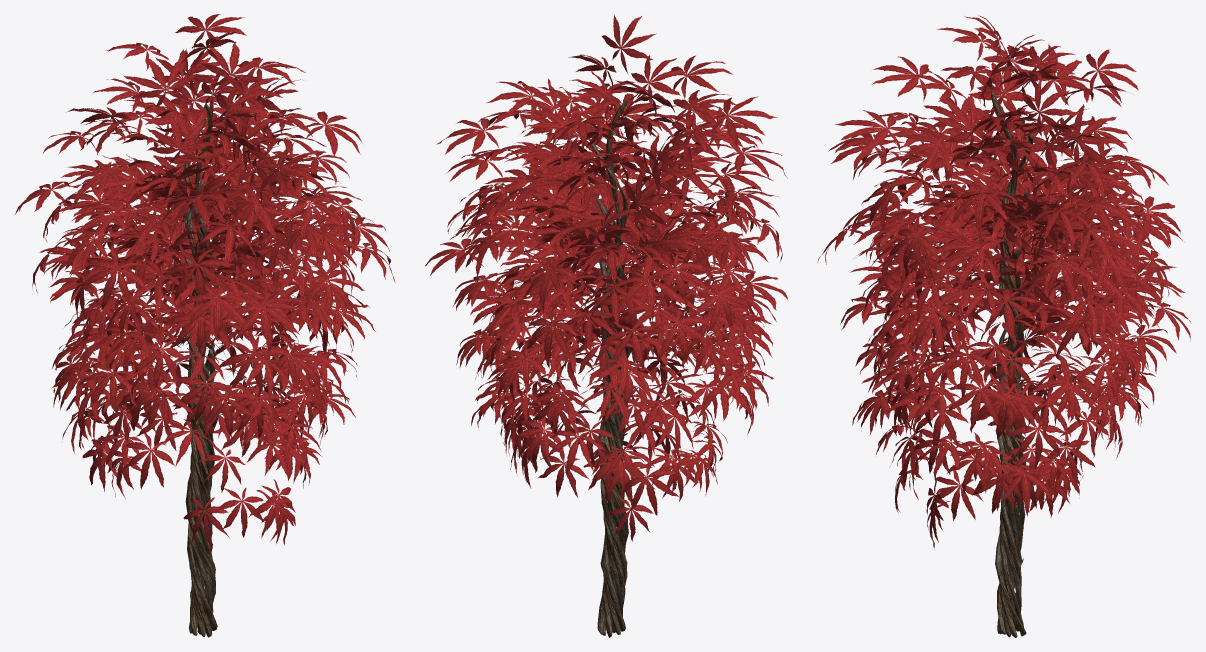
3 renders of one model, left to right at view 1: azimuth 30°, elevation 25°; view 2: azimuth 150°, elevation 25°; view 3: azimuth 270°, elevation 25°, orthographic. The views are drawn at different scales.
Parts seen in each view (by area): view 1: 园林树74; view 2: 园林树74; view 3: 园林树74.
Part boxes in pixels (x1,y1,x2,y2): 园林树74: (15,14,395,637); 园林树74: (425,14,788,637); 园林树74: (817,15,1190,637).
Bounding box in the file's own units: 213 × 406 × 224.
